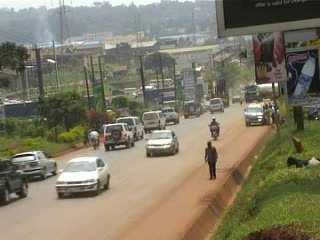Car: (54, 153, 111, 199), (6, 147, 59, 181), (0, 154, 30, 204), (144, 124, 180, 160), (101, 119, 135, 152), (182, 98, 203, 119), (228, 90, 245, 104), (198, 97, 212, 113)
Motorcycle: (206, 113, 222, 142), (87, 126, 101, 151)
